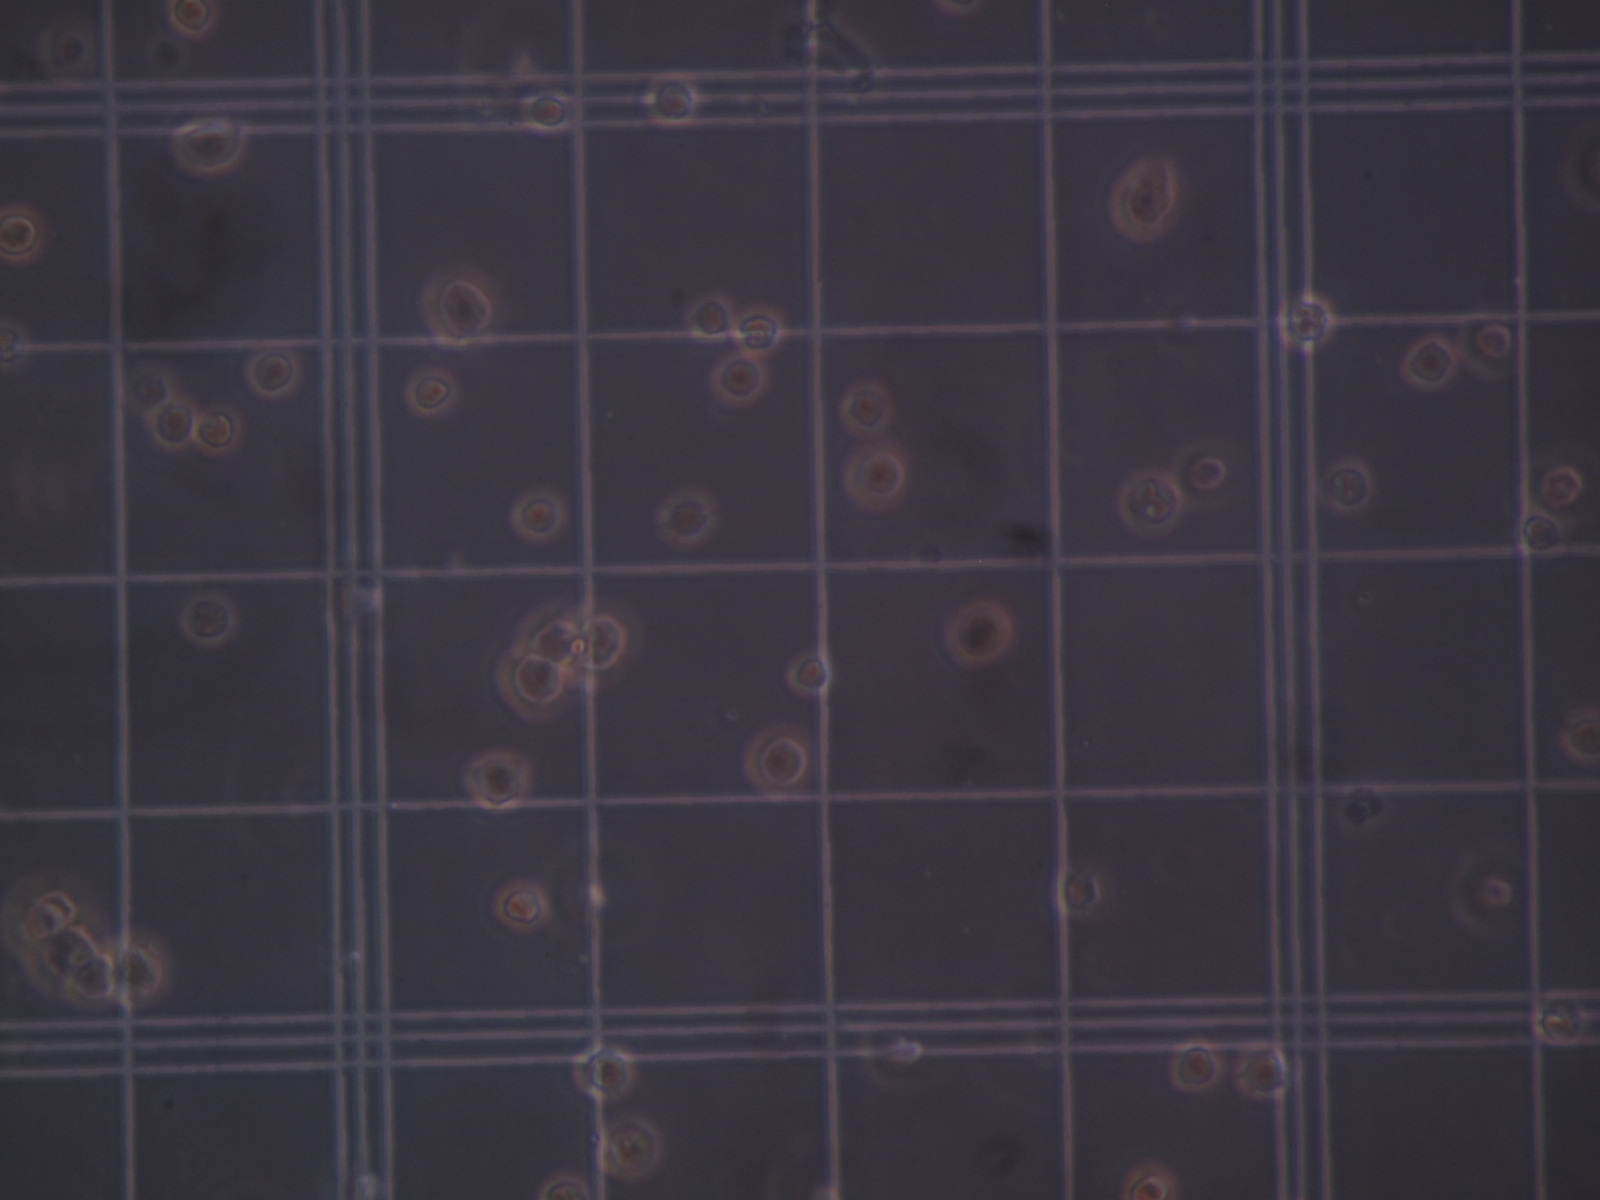hemo: (417, 258, 496, 353), (578, 591, 643, 688), (511, 596, 582, 684), (491, 645, 569, 722), (1448, 846, 1511, 940), (1109, 155, 1177, 239), (5, 868, 81, 944), (743, 718, 815, 797), (1169, 435, 1238, 513), (26, 924, 101, 993), (855, 1024, 922, 1093), (1114, 468, 1182, 534), (944, 601, 1014, 666), (596, 1113, 661, 1177), (1458, 308, 1516, 378), (169, 120, 247, 171), (569, 1042, 634, 1103), (110, 932, 163, 1005), (176, 591, 238, 650), (464, 753, 525, 812), (1398, 330, 1456, 391), (848, 447, 905, 508), (490, 877, 552, 933), (1274, 292, 1332, 350), (1318, 456, 1374, 514), (842, 379, 896, 440), (658, 494, 716, 547), (1237, 1041, 1290, 1099), (641, 77, 700, 129), (404, 366, 460, 420), (712, 352, 766, 405), (510, 488, 564, 541), (1049, 865, 1104, 918), (244, 348, 299, 400), (1533, 996, 1585, 1050), (731, 304, 784, 355), (1169, 1037, 1221, 1090), (69, 950, 118, 1003), (1516, 504, 1565, 557), (123, 361, 171, 415), (197, 405, 244, 458), (151, 400, 197, 453), (1556, 708, 1600, 763), (1, 205, 42, 262), (689, 292, 734, 342), (1120, 1163, 1180, 1200), (164, 1, 218, 38), (1537, 463, 1581, 507), (523, 89, 569, 131), (785, 654, 831, 695), (538, 1175, 592, 1200), (1, 326, 28, 369)
